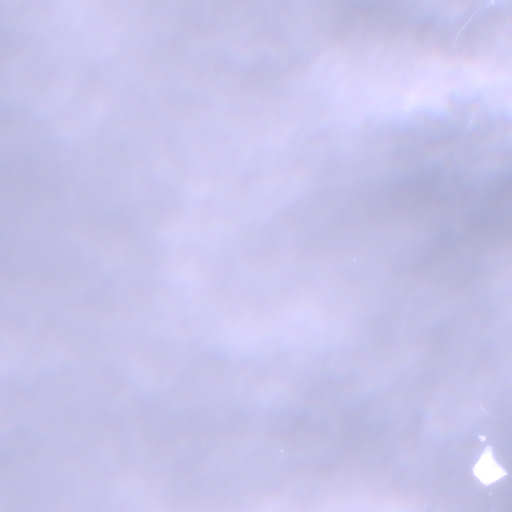Iceberg: (473, 445, 507, 485), (479, 435, 485, 441), (281, 450, 282, 451)
